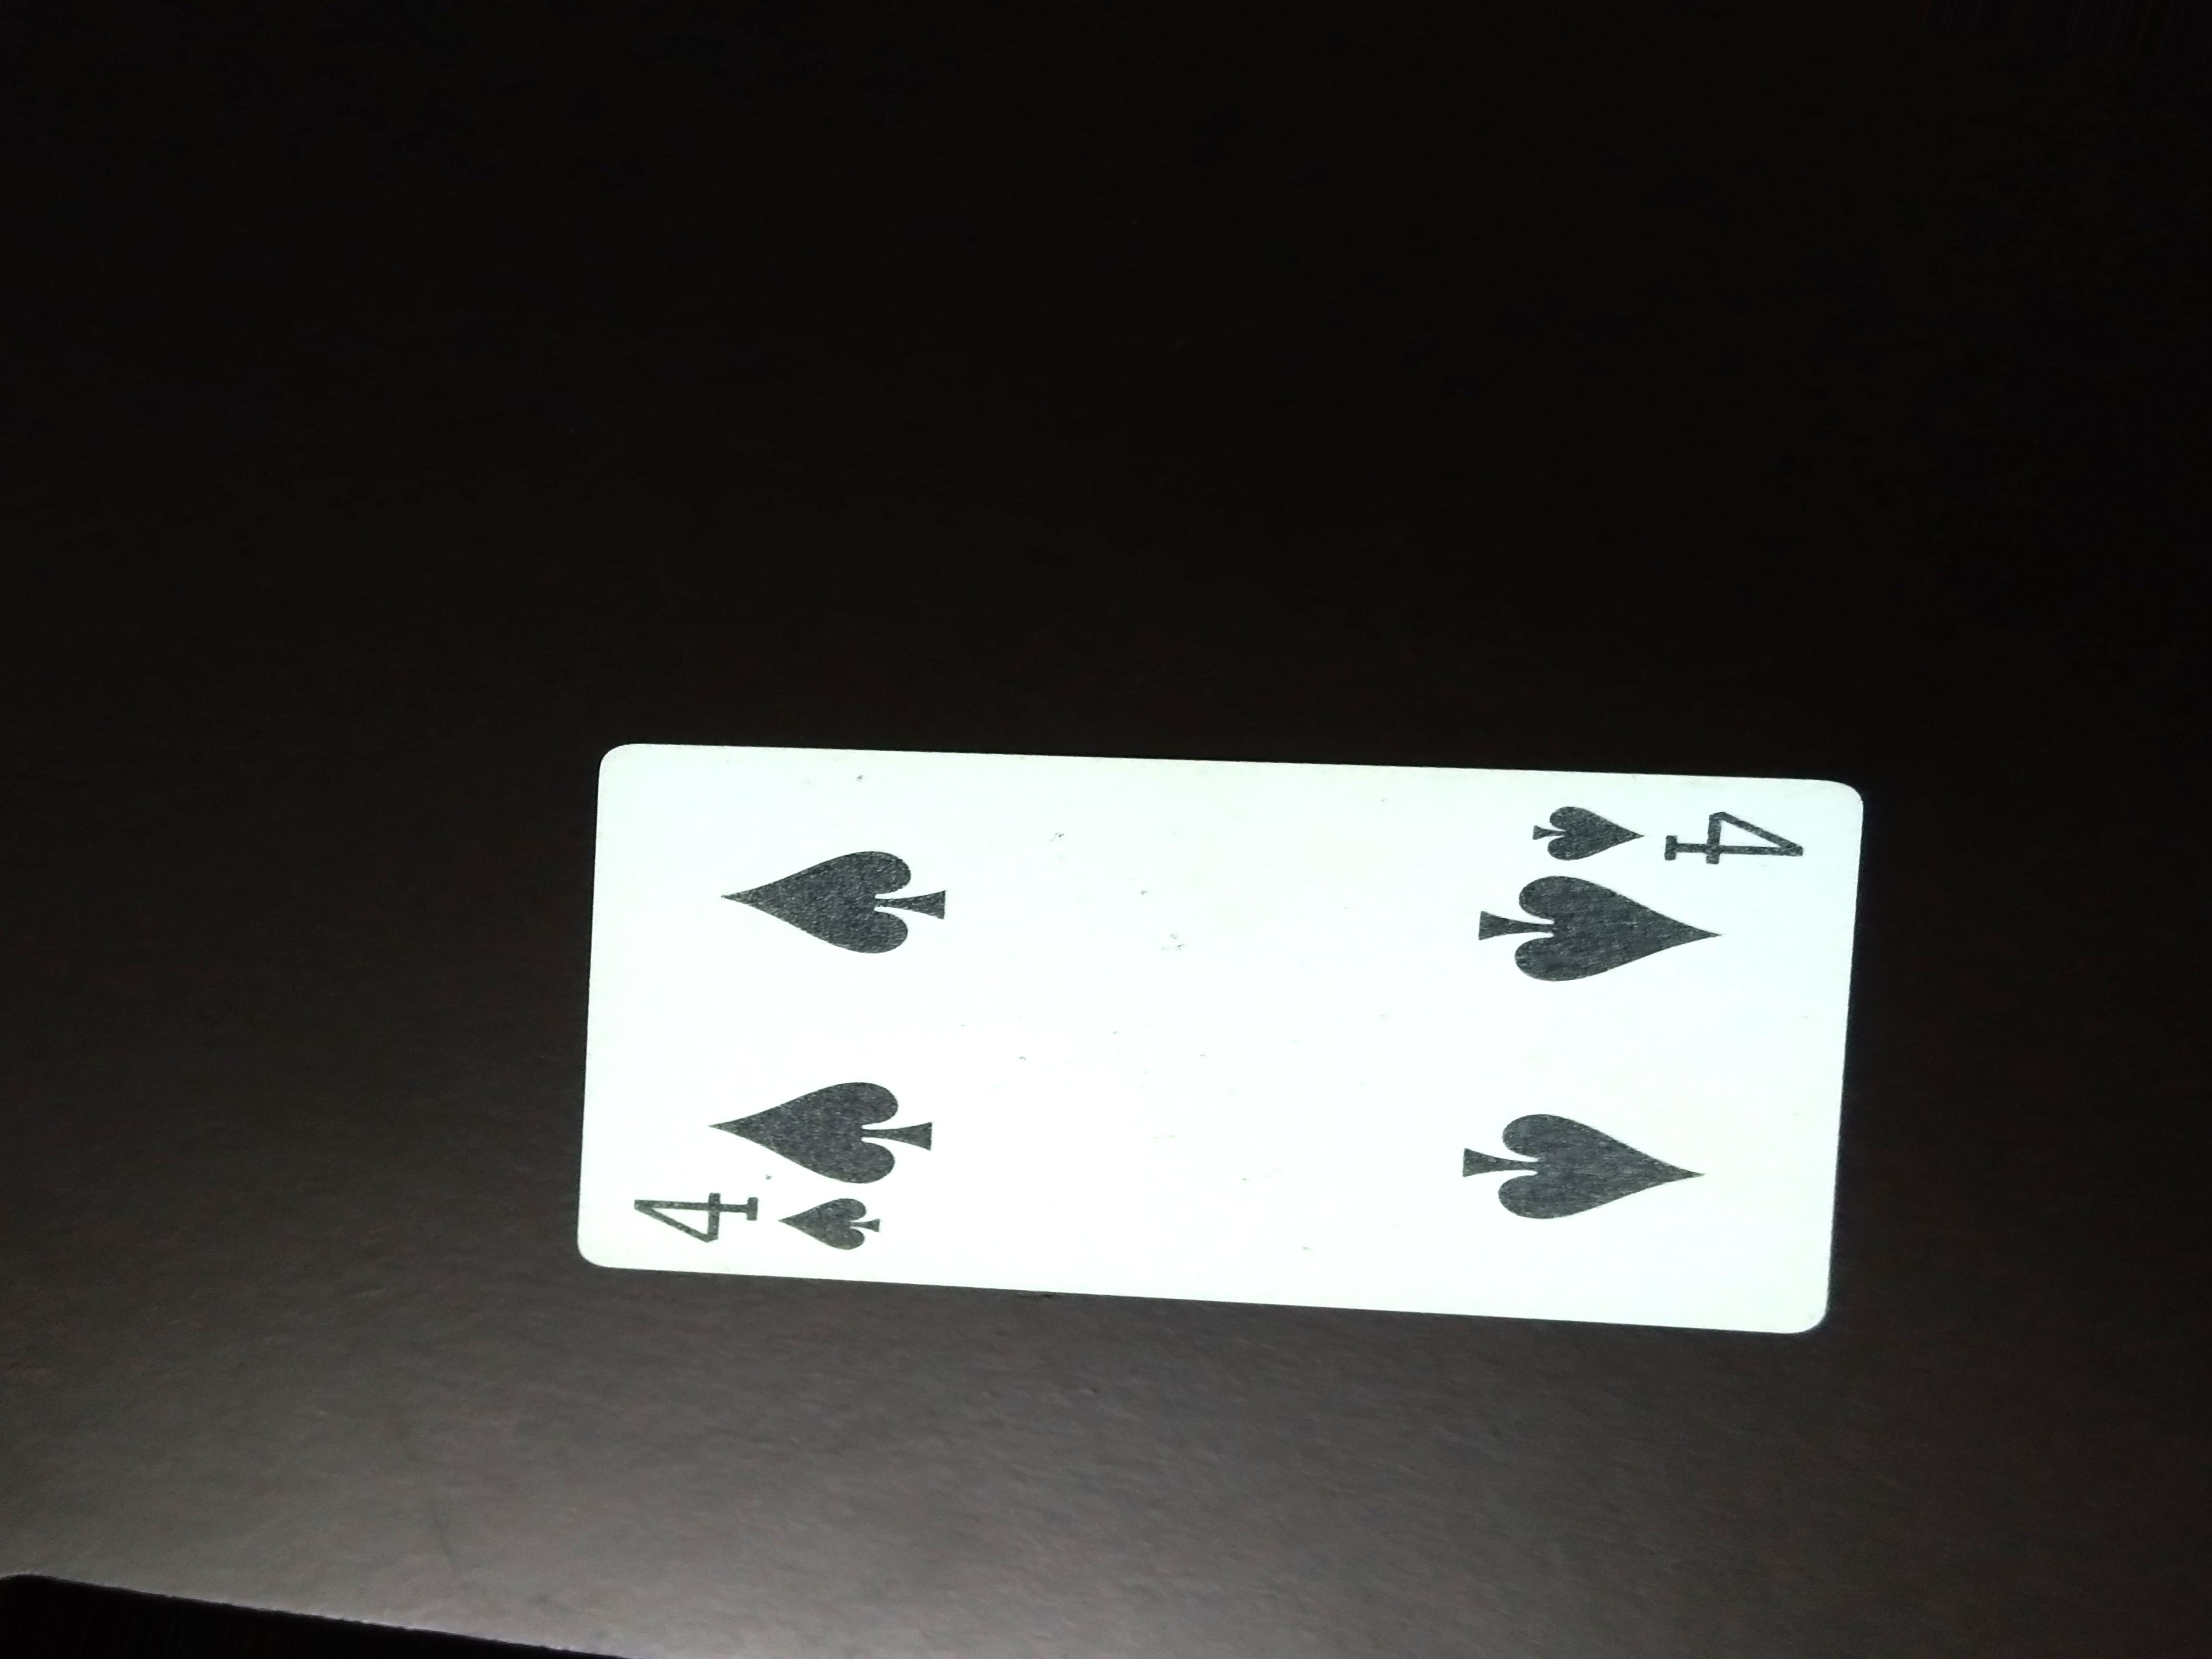4S: (1515, 788, 1841, 878)
